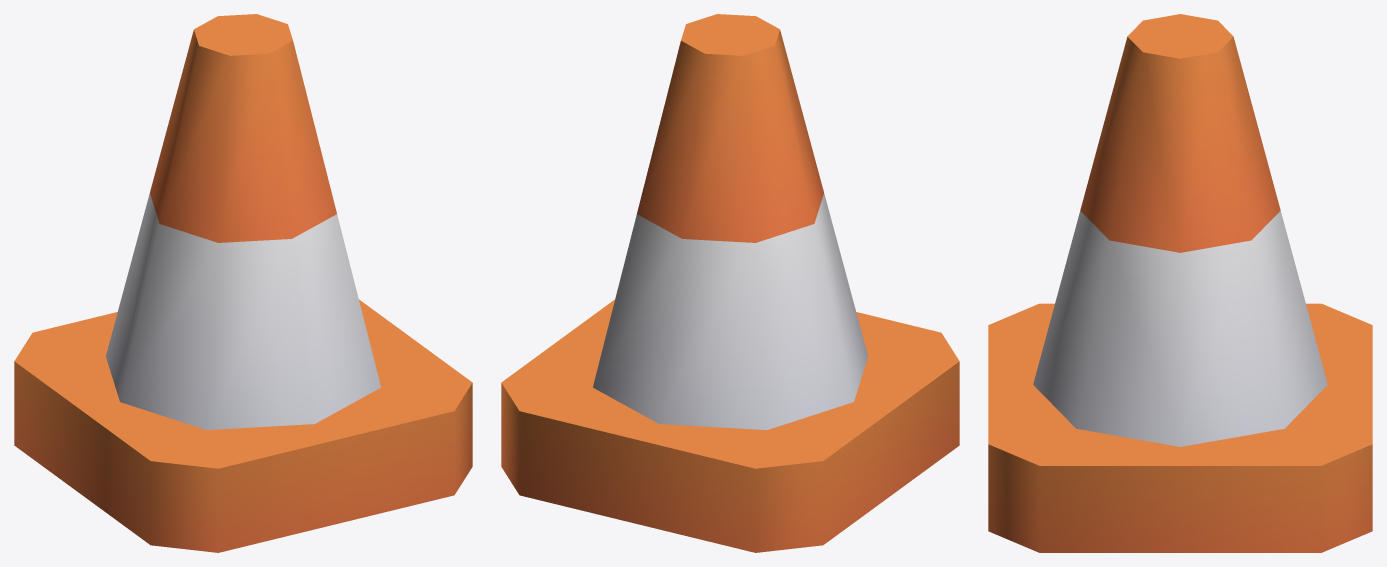
The model's file is construction-cone.glb.
3 renders of one model, left to right at view 1: azimuth 30°, elevation 25°; view 2: azimuth 150°, elevation 25°; view 3: azimuth 270°, elevation 25°, orthographic. The views are drawn at different scales.
Parts seen in each view (by area): view 1: construction-cone; view 2: construction-cone; view 3: construction-cone.
Boxes of the visible parts, <box> form: construction-cone: <box>14,14,472,552</box>; construction-cone: <box>501,14,959,552</box>; construction-cone: <box>988,14,1372,552</box>.
Bounding box in the file's own units: 0.075 × 0.0938 × 0.075.
1 material, 1 textured.
